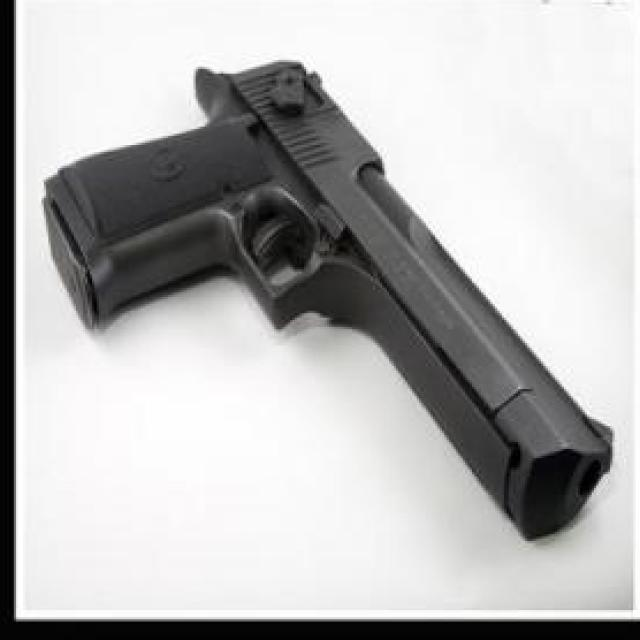pistol: (39, 60, 615, 541)
